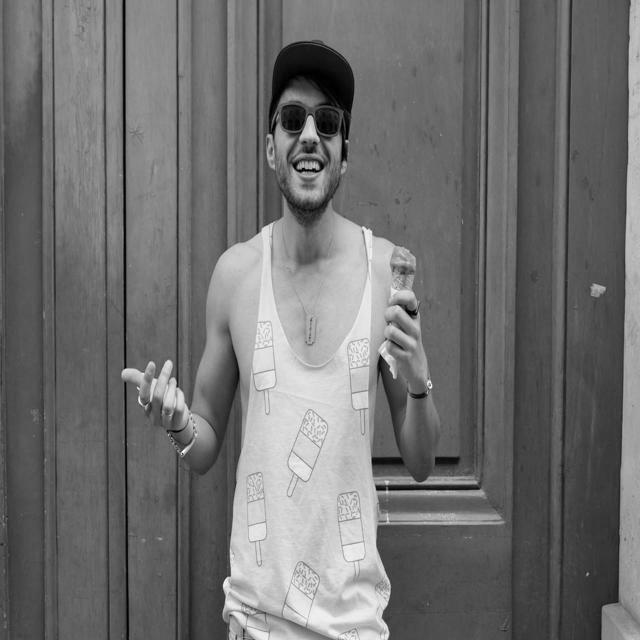Happiness: (270, 84, 346, 212)
